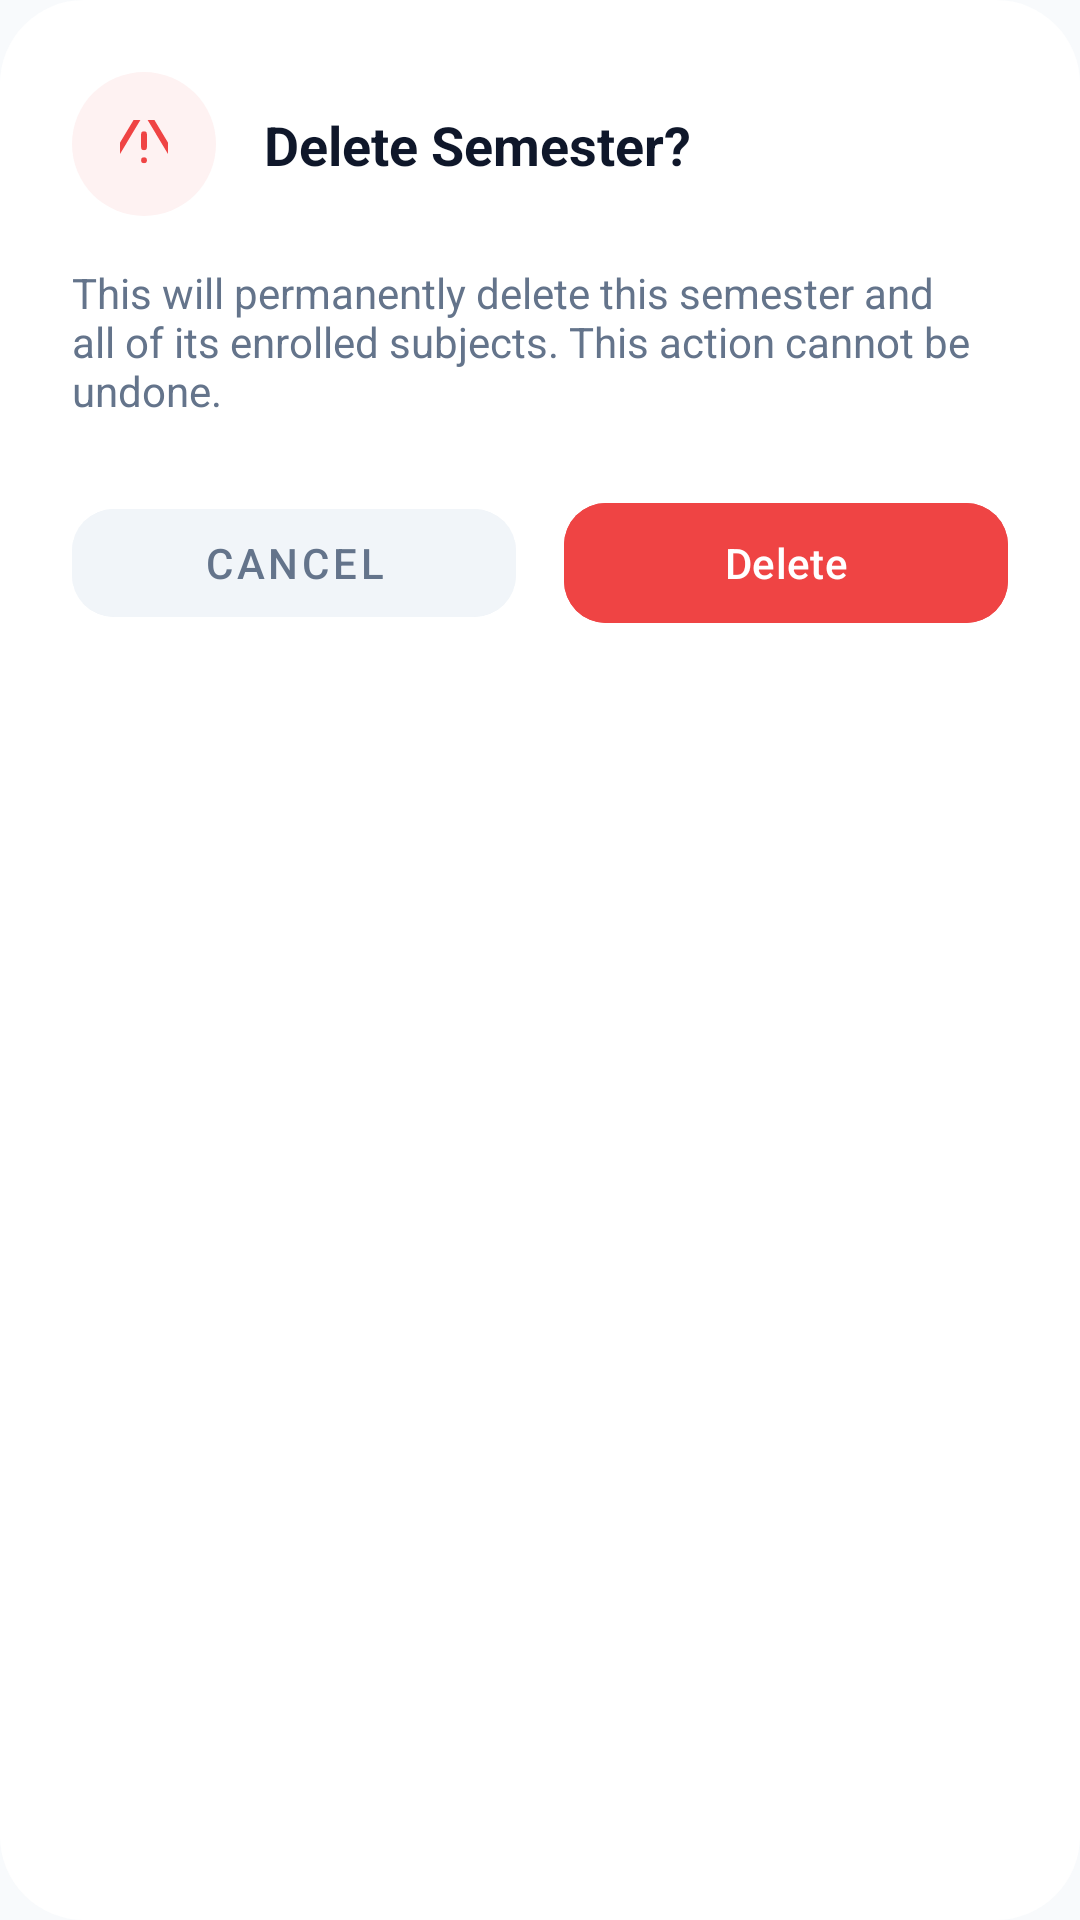

Where icons sit on this 1080px×1920px app screen, as [left=x1, top=y1, right=x2, bottom=y2]:
warning triangle: [left=120, top=120, right=168, bottom=163]
